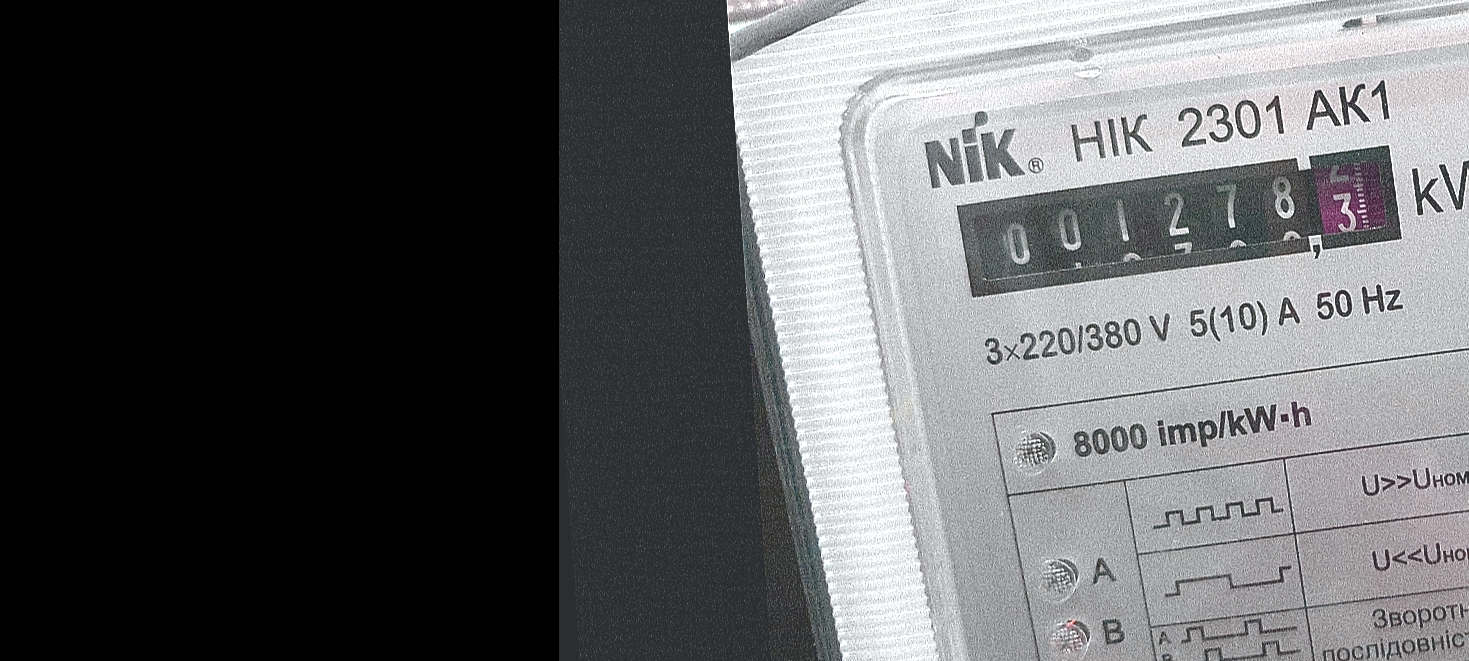0: (1004, 217, 1036, 267), (1056, 205, 1085, 253)
1: (1115, 195, 1135, 244)
2: (1162, 188, 1192, 236), (1326, 162, 1353, 184)
3: (1331, 187, 1360, 232)
7: (1217, 180, 1242, 230)
8: (1270, 172, 1299, 221)
screen: (937, 133, 1422, 307)
